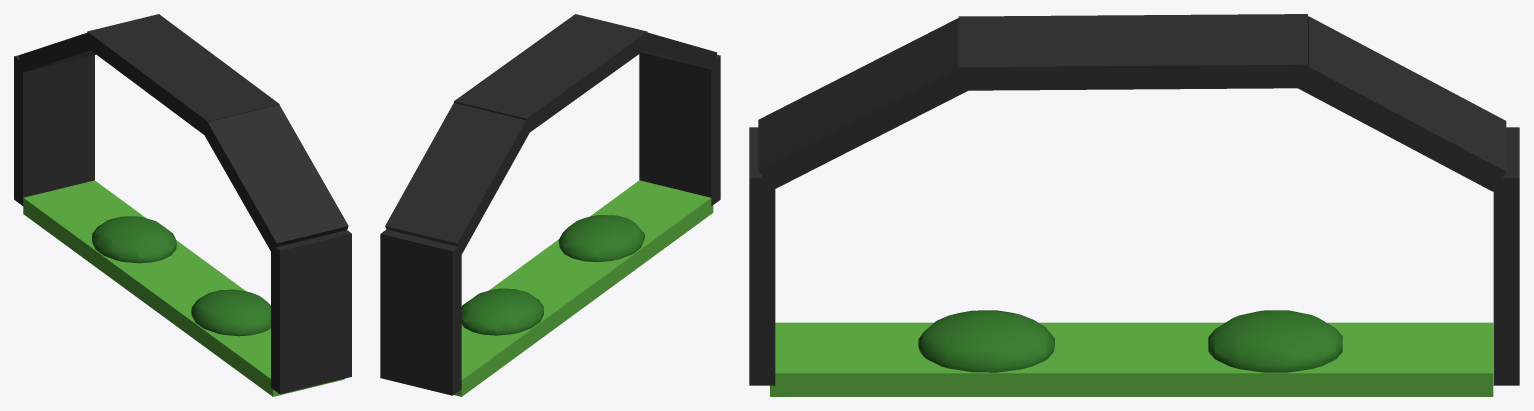
File: MapInital.fbx
The picture shows the model from 3 angles, left to right: view 1: azimuth 30°, elevation 25°; view 2: azimuth 150°, elevation 25°; view 3: azimuth 270°, elevation 25°; orthographic projection. The views are drawn at different scales.
Parts seen in each view (by area): view 1: Cube, Cube.001, Cube.003, Cube.004, Cube.002, Mball, Cube.005; view 2: Cube, Cube.002, Cube.005, Cube.001, Cube.004, Mball, Cube.003; view 3: Cube, Cube.004, Cube.003, Cube.005, Mball, Cube.002, Cube.001.
Part boxes in pixels (<box>): Cube: <box>23,180,344,396</box>; Cube.001: <box>271,230,351,394</box>; Cube.003: <box>203,105,348,253</box>; Cube.004: <box>87,14,279,137</box>; Cube.002: <box>14,55,94,205</box>; Mball: <box>92,216,270,336</box>; Cube.005: <box>19,33,95,72</box>; Cube: <box>454,180,713,396</box>; Cube.002: <box>380,229,461,395</box>; Cube.005: <box>385,103,529,253</box>; Cube.001: <box>639,52,720,206</box>; Cube.004: <box>454,14,647,134</box>; Mball: <box>461,215,644,335</box>; Cube.003: <box>641,32,717,69</box>; Cube: <box>770,322,1493,396</box>; Cube.004: <box>958,14,1308,90</box>; Cube.003: <box>758,18,972,190</box>; Cube.005: <box>1297,16,1506,191</box>; Mball: <box>918,310,1342,372</box>; Cube.002: <box>1493,127,1519,385</box>; Cube.001: <box>749,127,775,385</box>.
Size of the model in its own units: 645 by 1969 by 4136.
